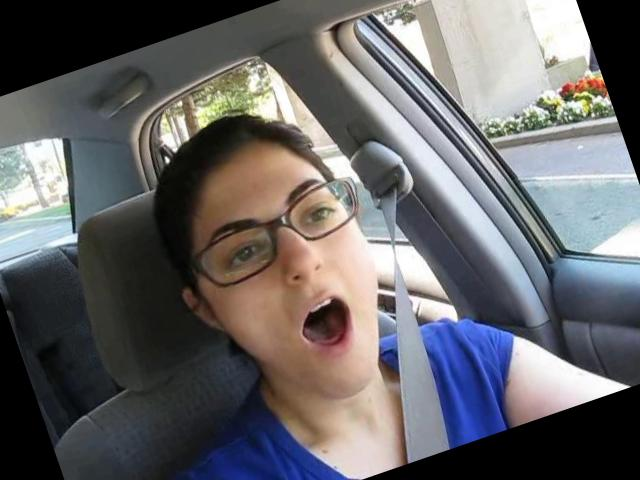eye_open: (213, 232, 276, 279), (289, 194, 343, 236)
face: (182, 152, 418, 431)
mouth_open: (286, 284, 369, 366)
